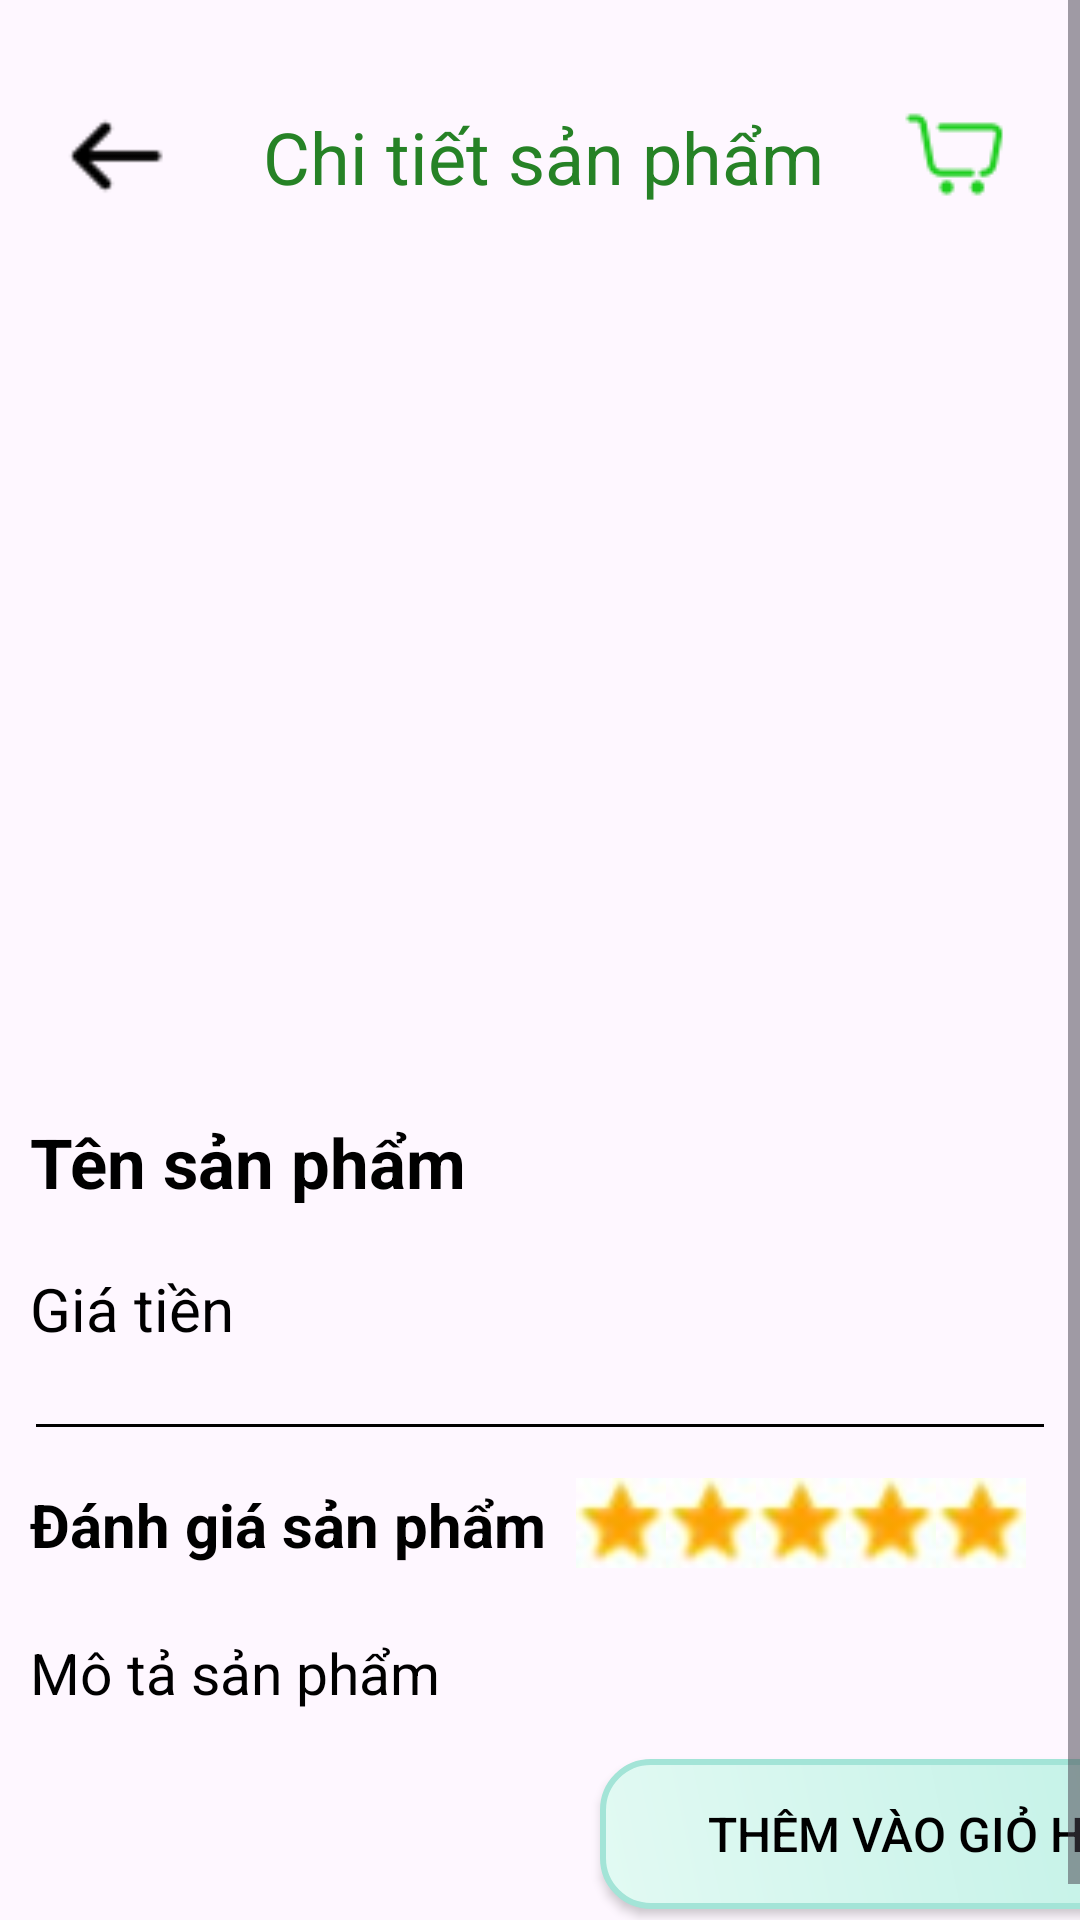

Point at icon controls on the screen. Image size 1080×1920, points as (x,y).
arrow back: (117,156)
cart: (954,154)
star full: (621,1520), (711,1520), (801,1520), (891,1520), (981,1520)
